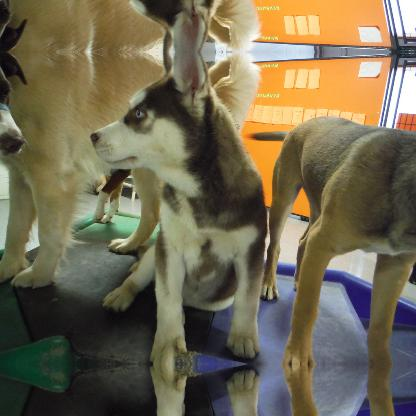Dog: (88, 52, 268, 362), (0, 52, 164, 288), (260, 115, 414, 363), (0, 0, 165, 53), (259, 365, 415, 415), (84, 173, 106, 194)
